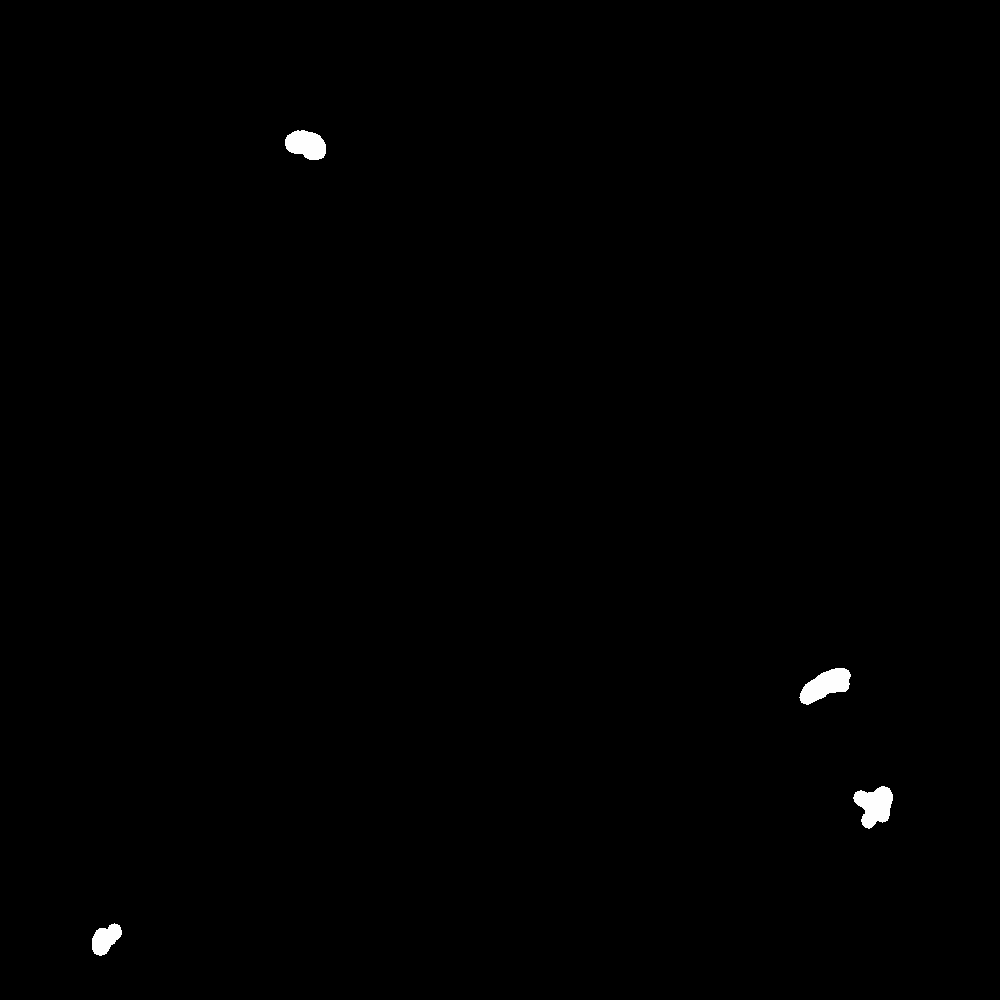illegal: (858, 746, 897, 825), (793, 659, 854, 707), (543, 688, 611, 707)
